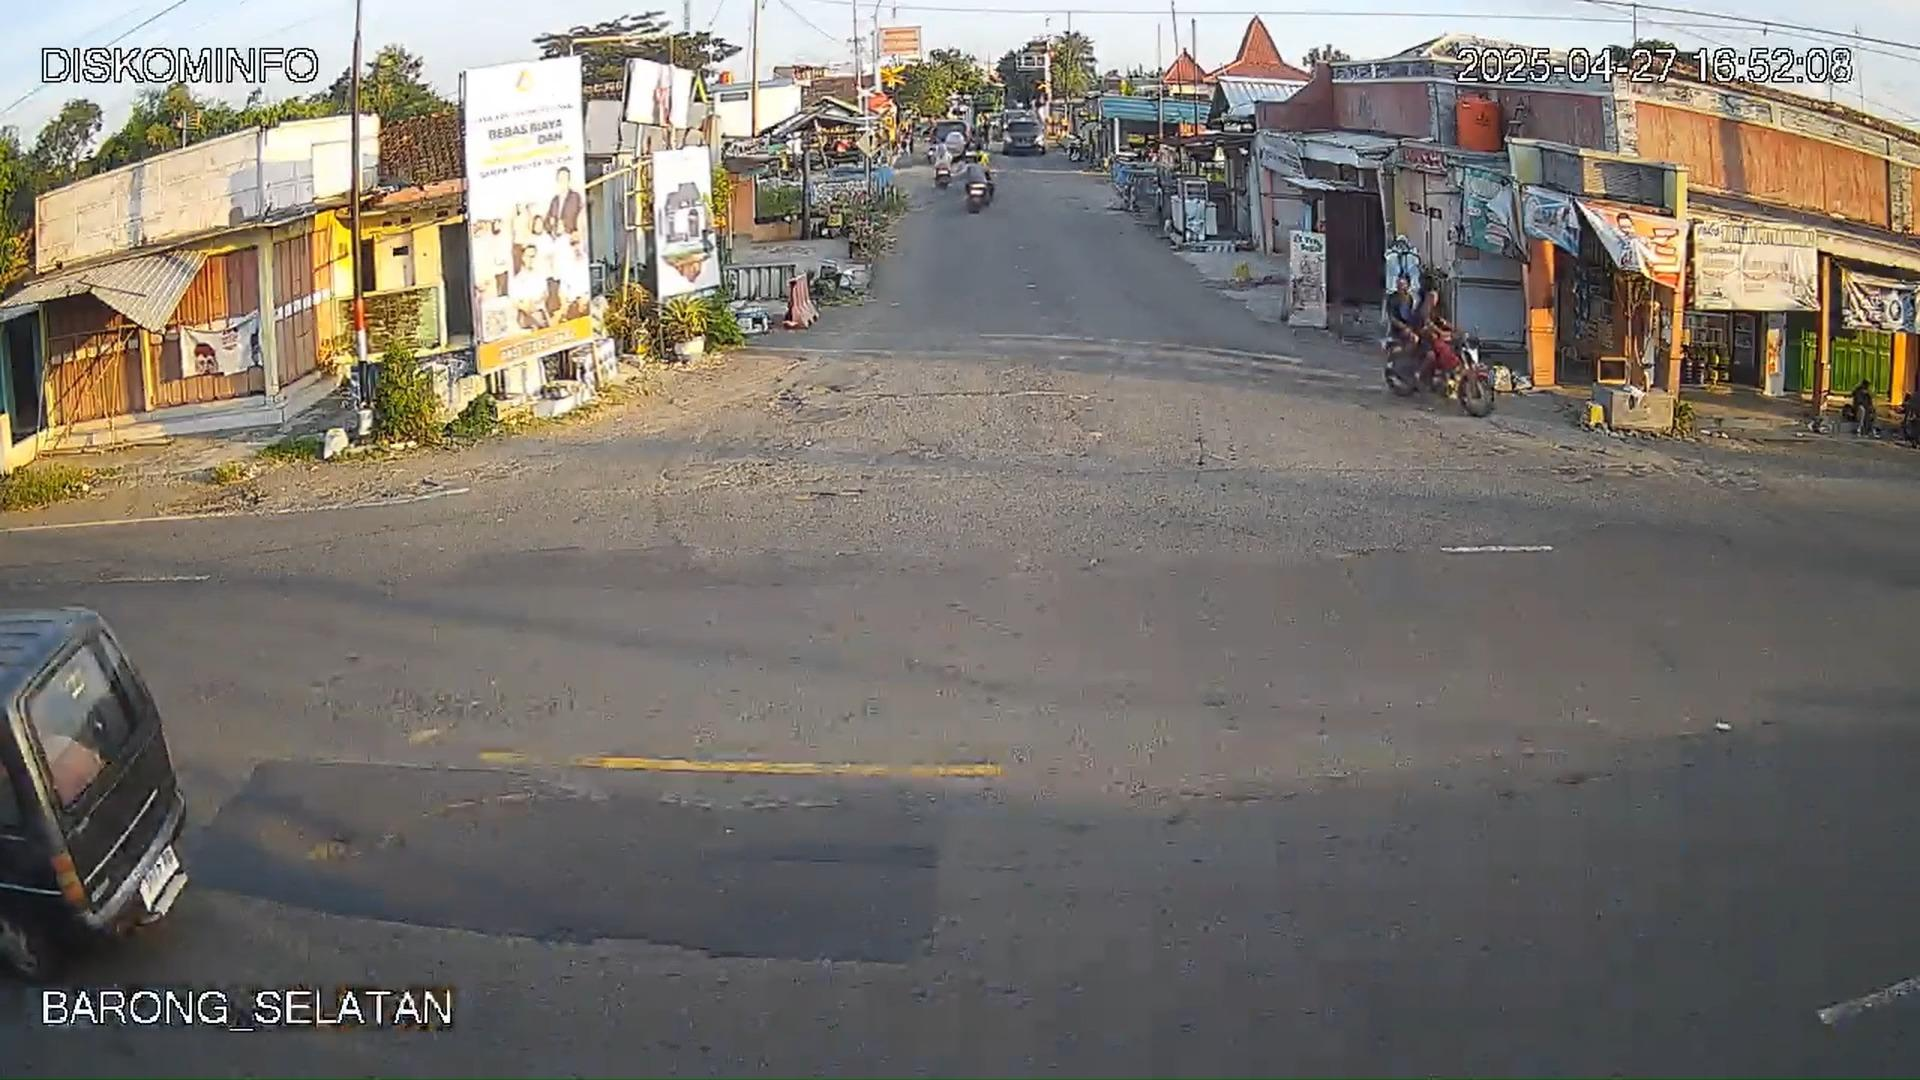Motor: (1381, 323, 1487, 415)
mobil: (1, 605, 193, 981)
